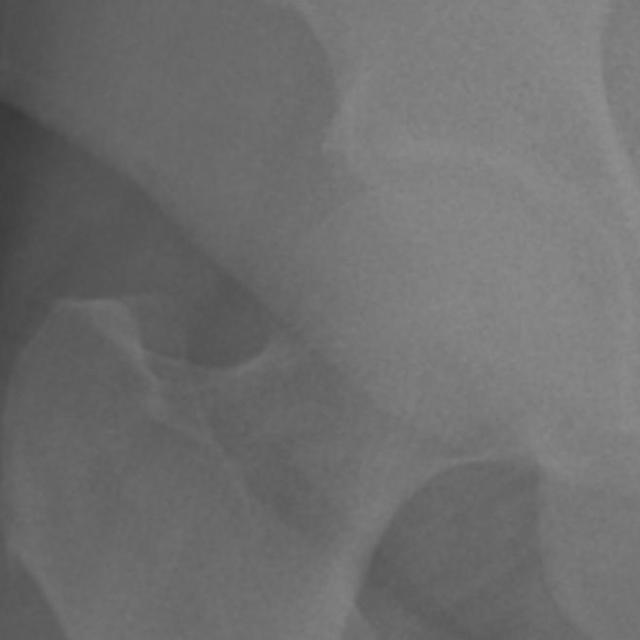Fitted_femural_head: (305, 178, 432, 305)
